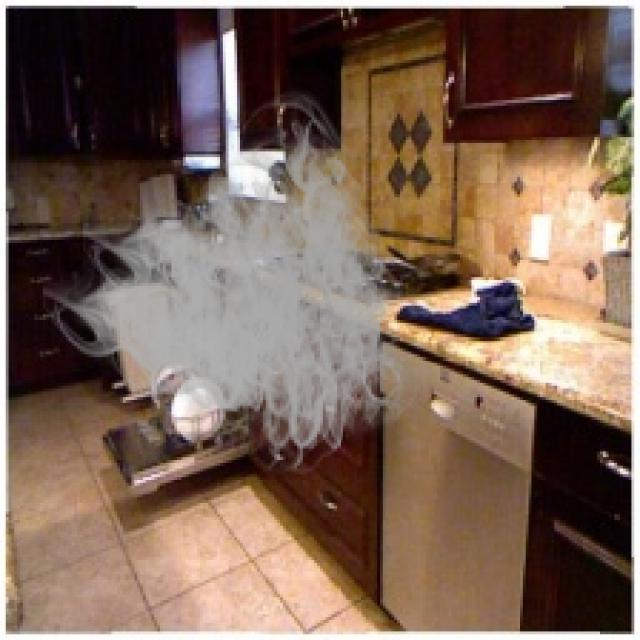smoke: (43, 86, 428, 486)
